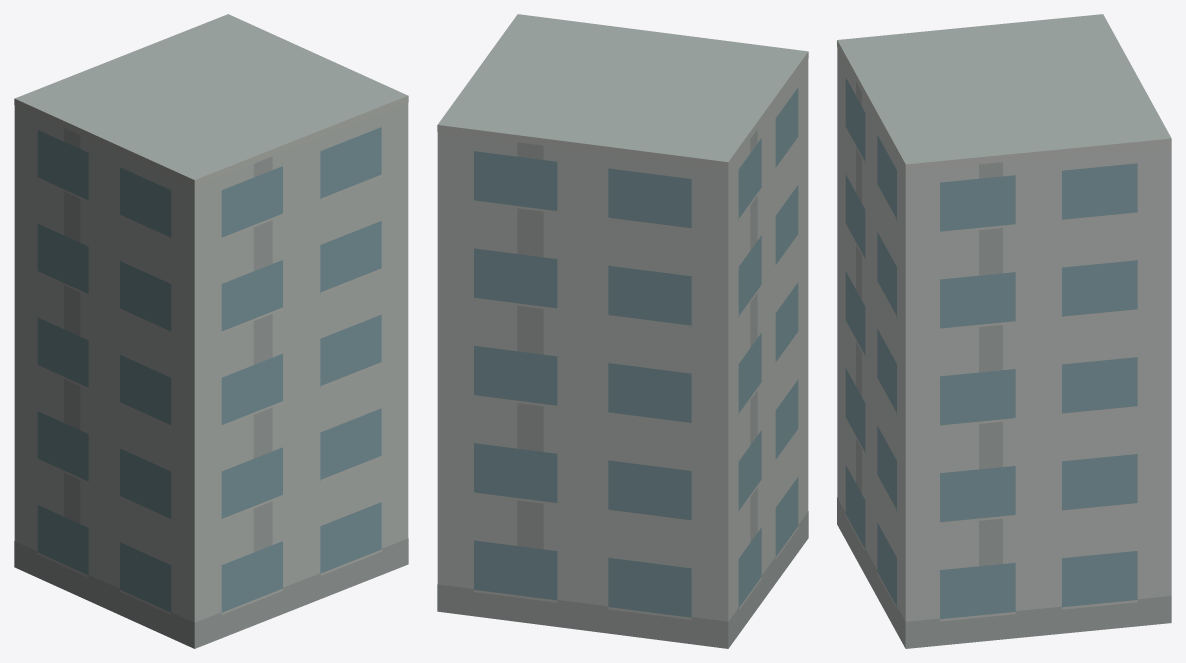
The model's file is survey-upis-32594816.glb.
The picture shows the model from 3 angles, left to right: view 1: azimuth 30°, elevation 25°; view 2: azimuth 150°, elevation 25°; view 3: azimuth 270°, elevation 25°; orthographic projection. The views are drawn at different scales.
Visible parts, largest first — view 1: survey-upis-32594816.tmp; view 2: survey-upis-32594816.tmp; view 3: survey-upis-32594816.tmp.
Boxes of the visible parts, x1,y1,x2,y2 form: survey-upis-32594816.tmp: [14, 14, 408, 648]; survey-upis-32594816.tmp: [437, 14, 808, 648]; survey-upis-32594816.tmp: [837, 14, 1171, 648].
Size of the model in its own units: 11.07 by 16.6 by 10.4.
